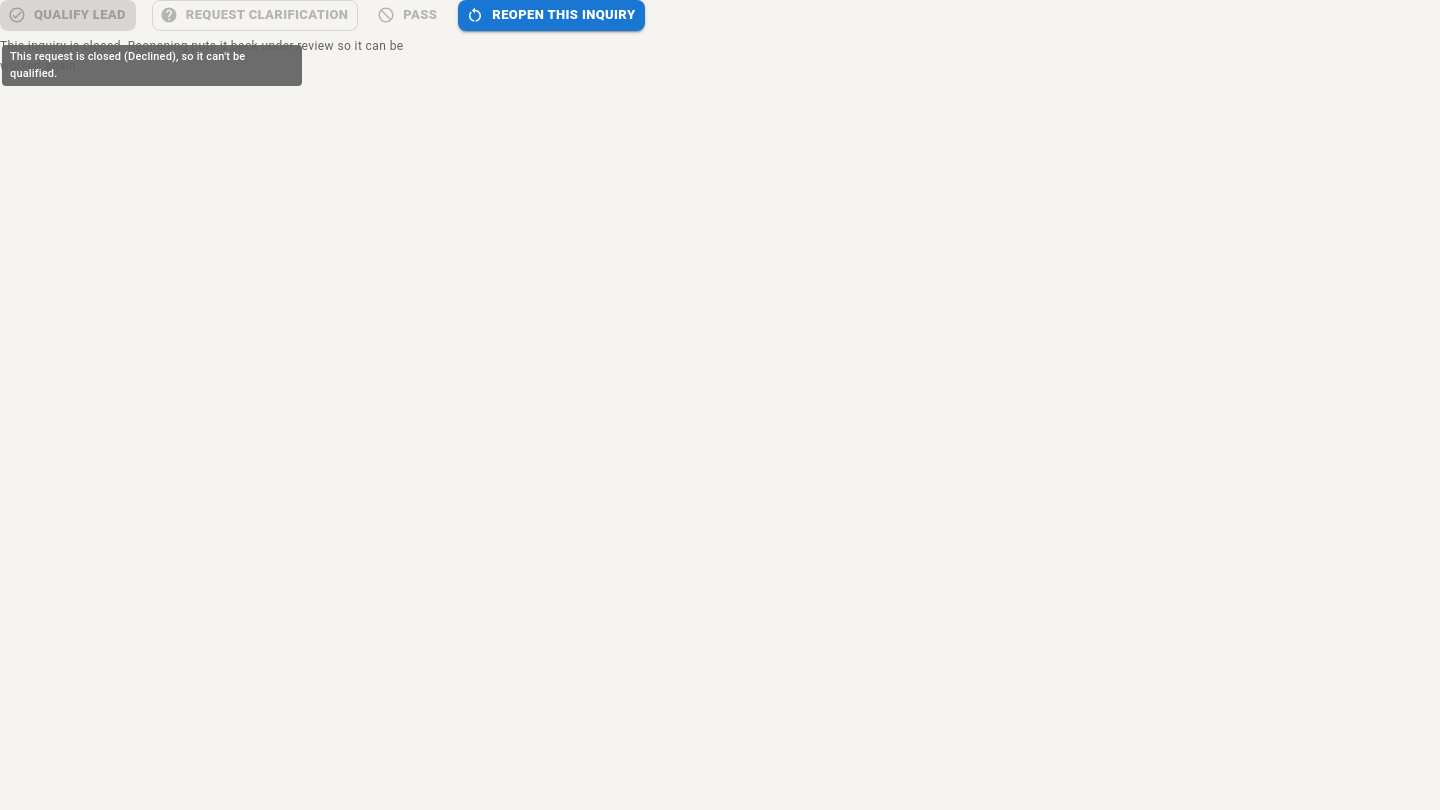
Test: LeadDecisionActions — reopening a closed inquiry › will not send a reopen with no reason, and says what is missing
The width and height of the screenshot is (1440, 810).
Click the button "Reopen this inquiry": click(552, 15) x1=458 y1=0 x2=645 y2=31
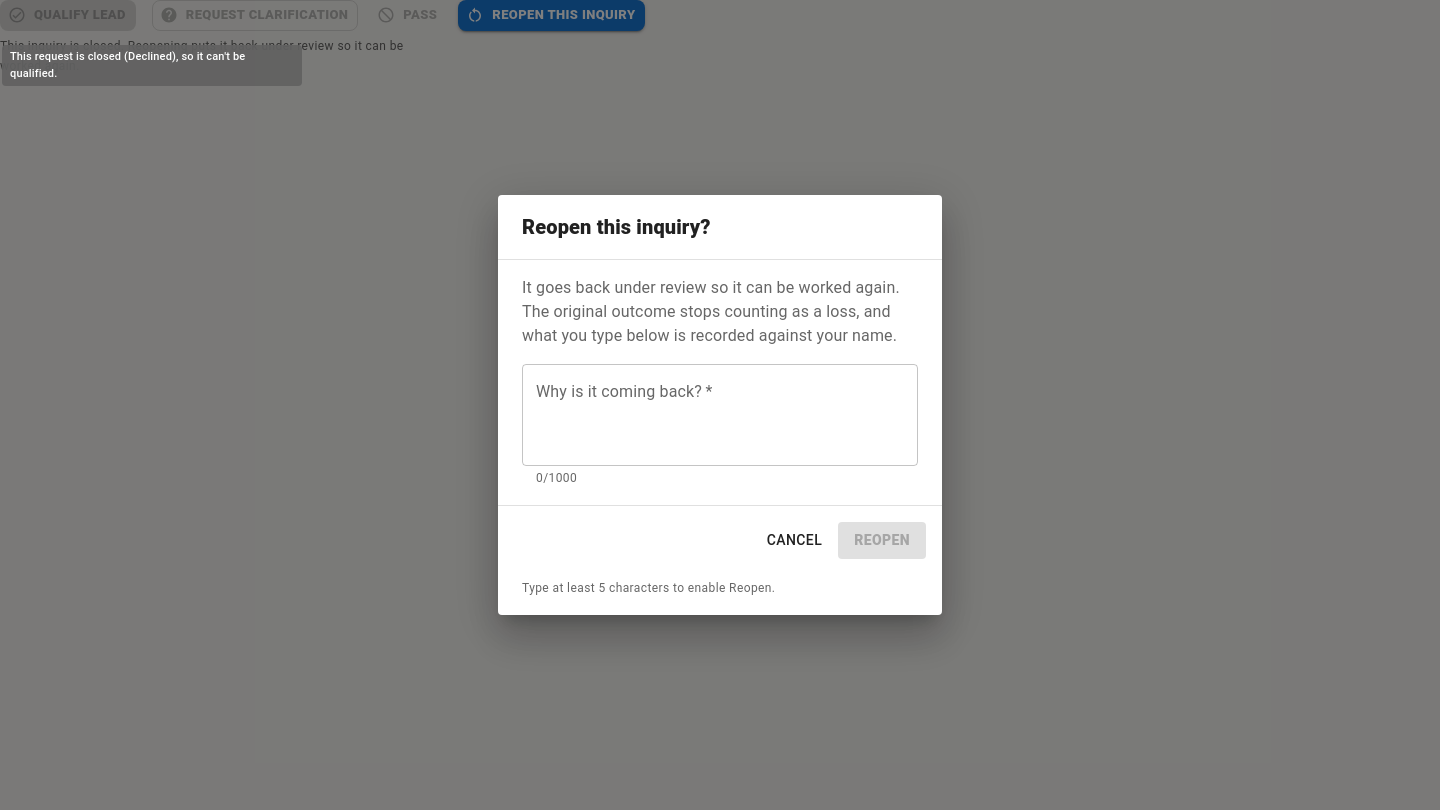
Now the button "Reopen" is disabled, box x1=838 y1=522 x2=926 y2=559
Now the text "Type at least 5 characters to enable Reopen." is shown, box x1=522 y1=581 x2=775 y2=595
